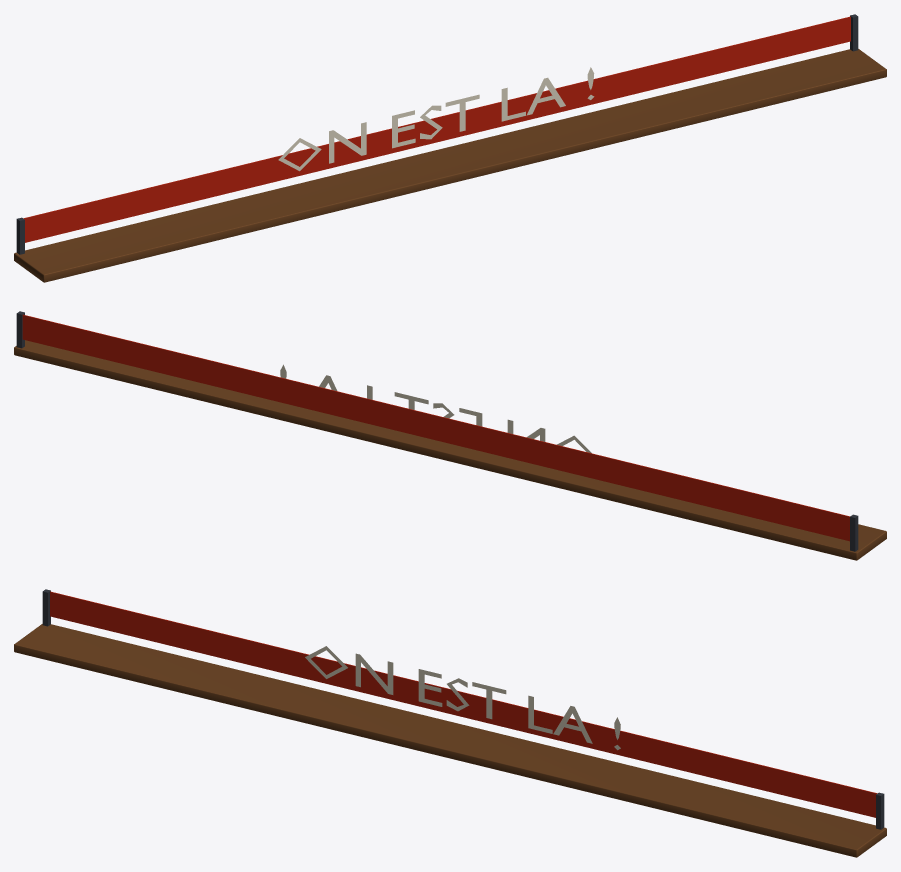
Rendered from start-wall.glb.
3 renders of one model, top to bottom at view 1: azimuth 30°, elevation 25°; view 2: azimuth 150°, elevation 25°; view 3: azimuth 330°, elevation 25°, orthographic.
Parts seen in each view (by area): view 1: start-wall; view 2: start-wall; view 3: start-wall.
Part boxes in pixels (x1,y1,x2,y2): start-wall: [14, 14, 886, 282]; start-wall: [14, 311, 886, 560]; start-wall: [14, 589, 886, 857].
Size of the model in its own units: 32 by 2 by 2.
1 material, 1 textured.
